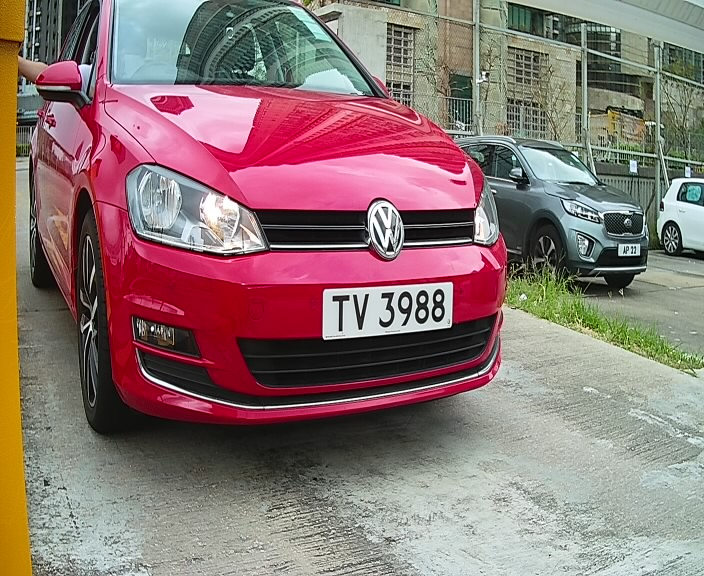Car: (22, 2, 528, 474)
License Plate: (311, 272, 462, 349)
